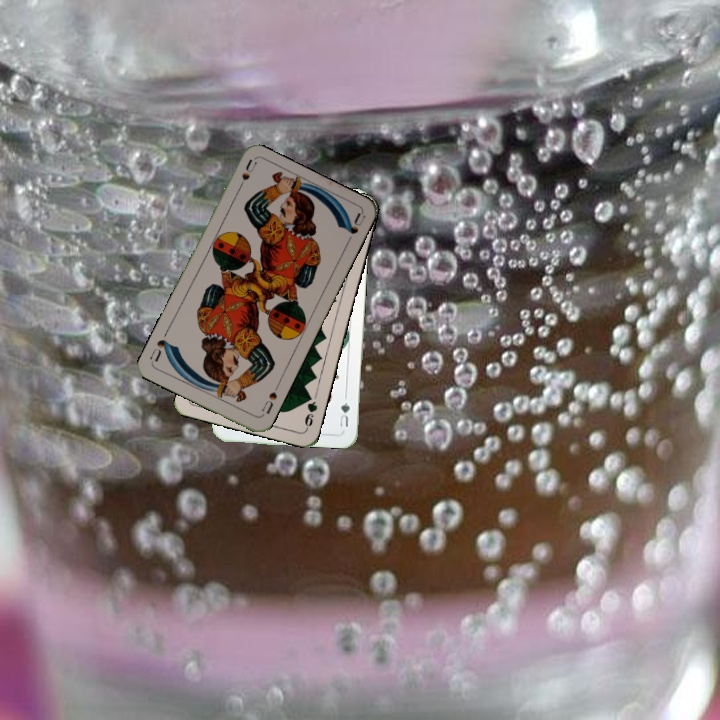G9: (301, 390, 320, 431)
GU: (336, 398, 352, 429)
SU: (233, 156, 259, 195), (257, 381, 282, 418)
